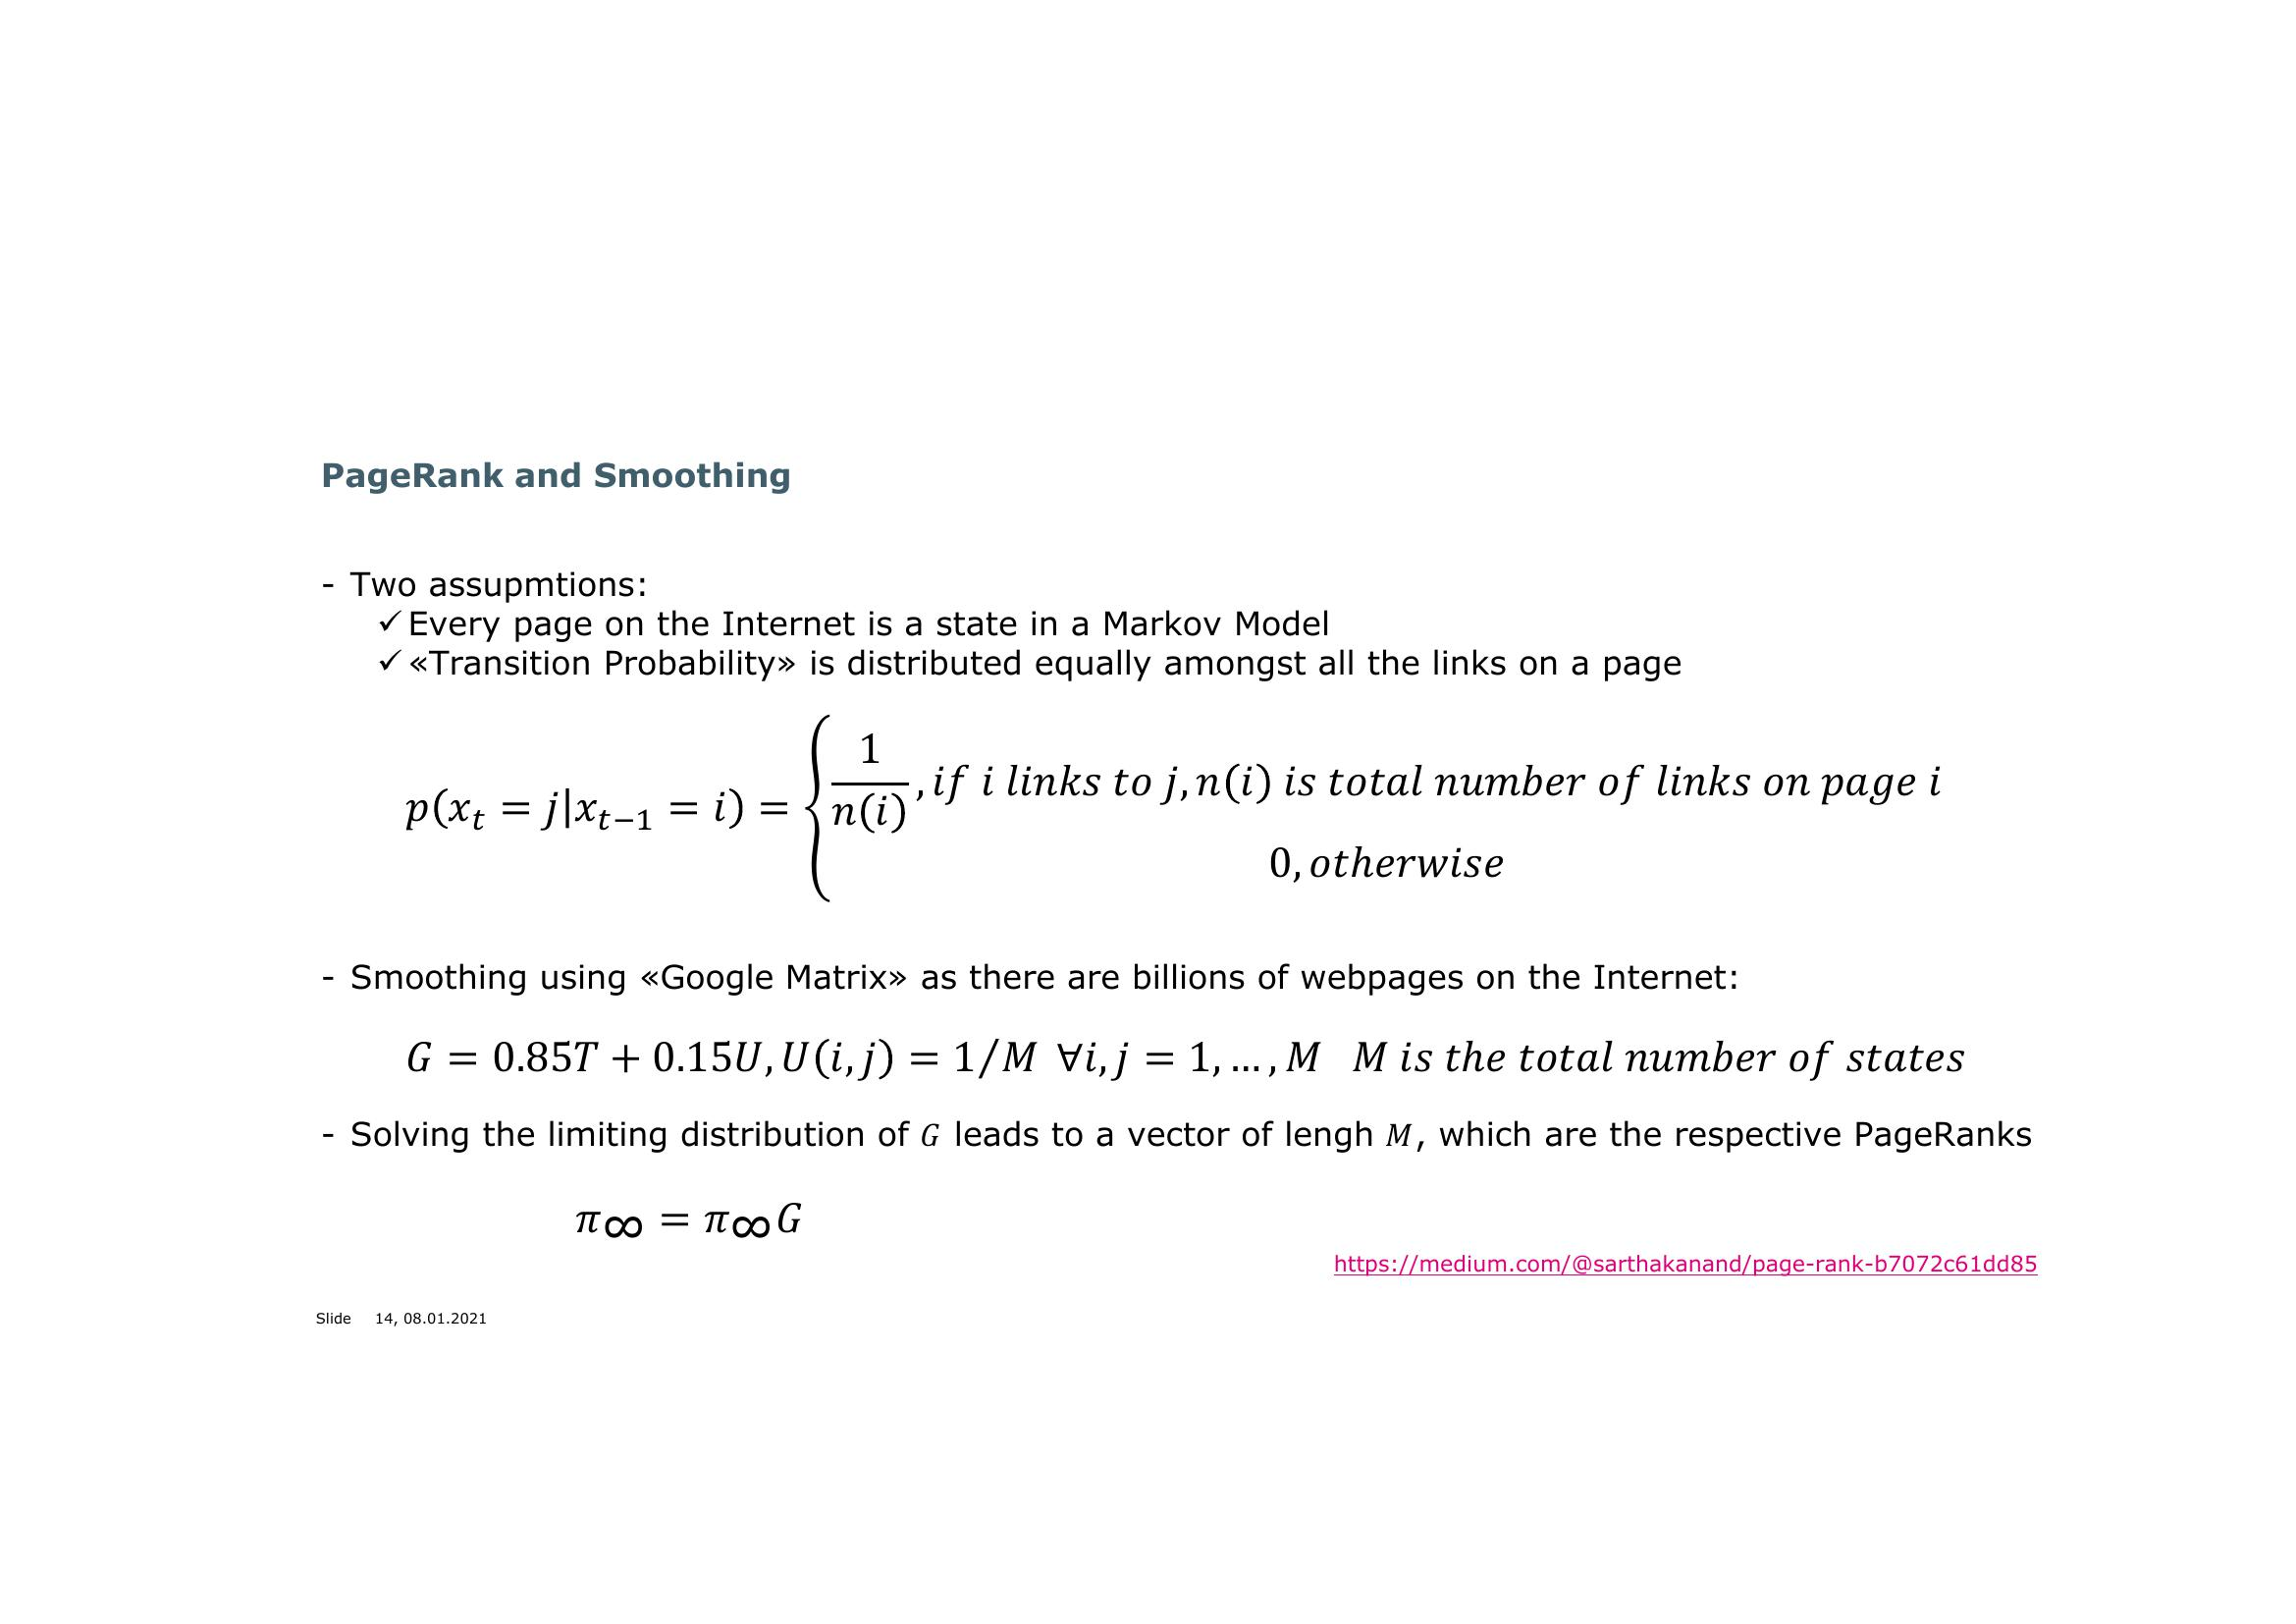Title: (307, 450, 806, 517)
